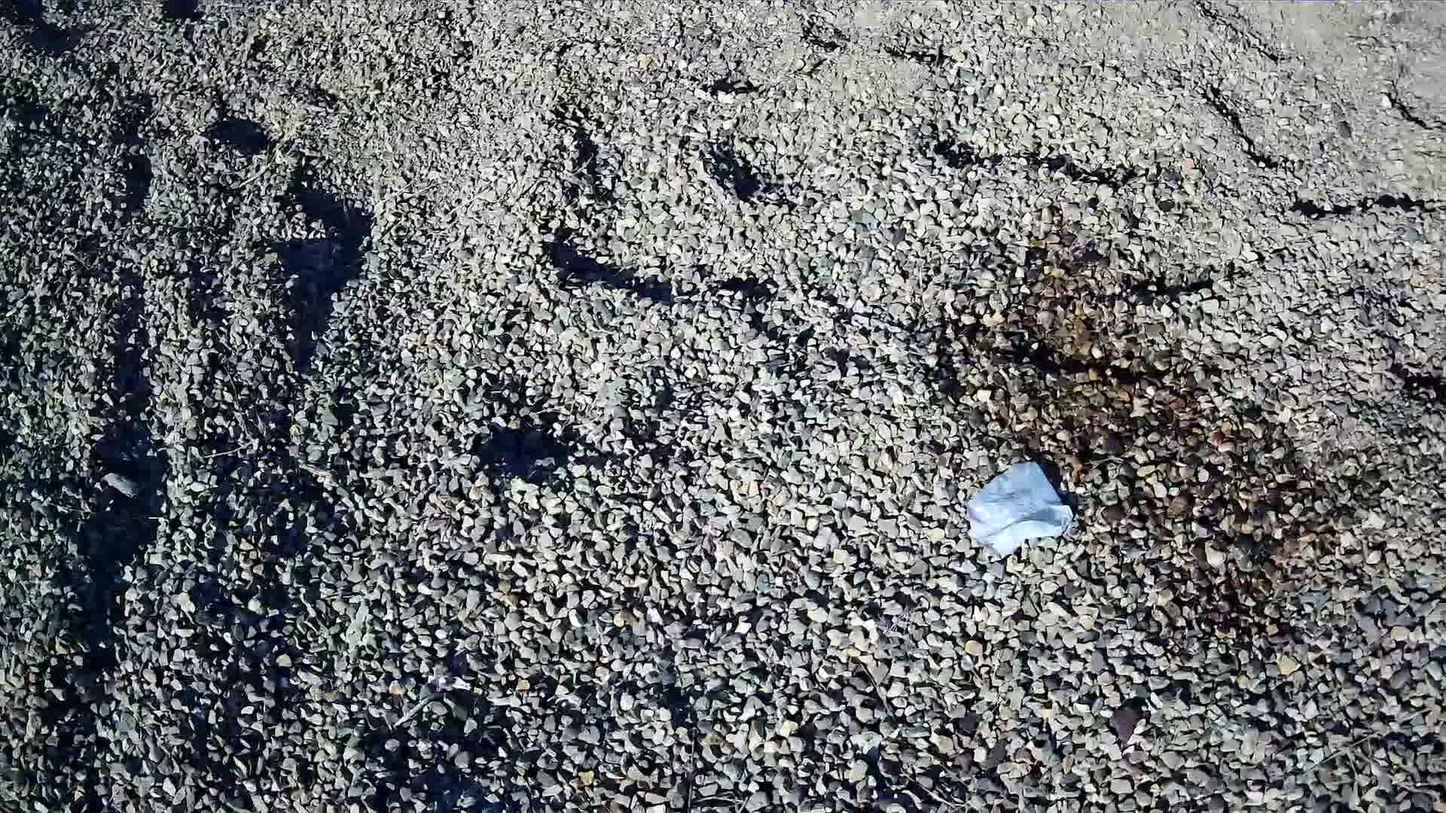Target: (967, 459, 1074, 545)
